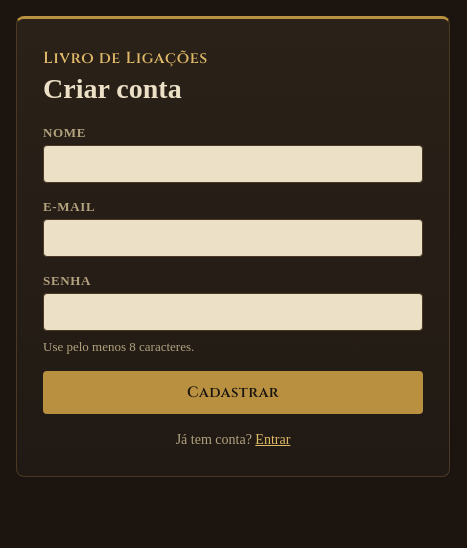
cadastro › exibe erro de e-mail duplicado e mantém nome e e-mail digitados
The width and height of the screenshot is (467, 548).
Step 1. Type "Jogador Novo" into the field labelled "Nome" → (233, 164), box [43,145,423,183]
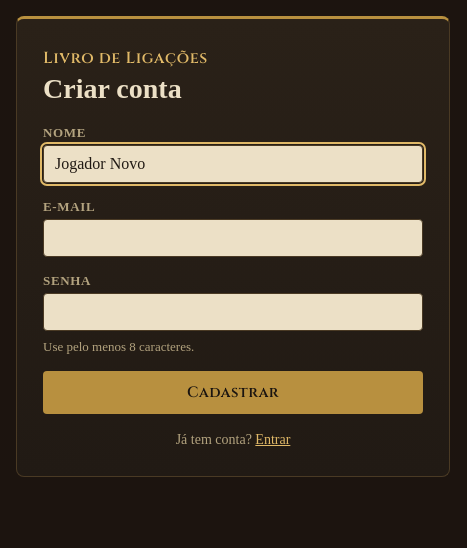
Step 2. Type "repetido@example.com" into the field labelled "E-mail" → (233, 238), box [43,219,423,257]
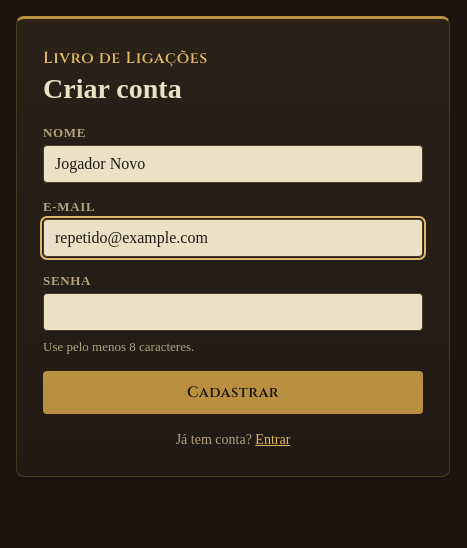
Step 3. Type "senha-secreta" into the password field labelled "Senha" → (233, 312), box [43,293,423,331]
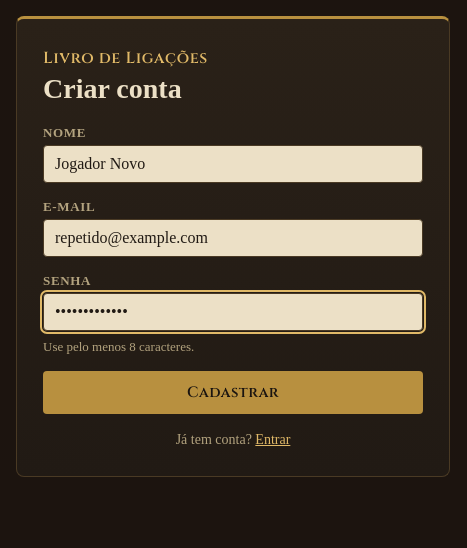
Step 4. Click the button "Cadastrar" → click(233, 392), box [43,371,423,414]
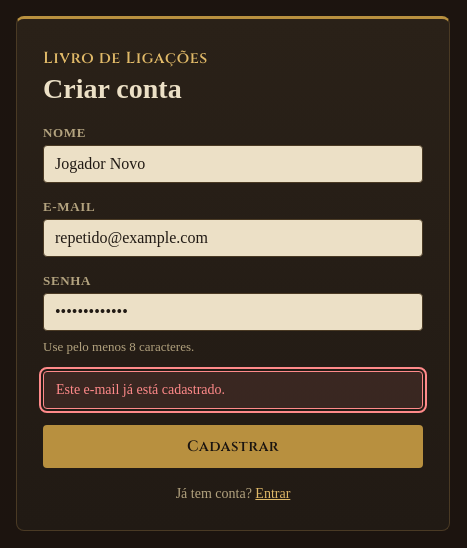
Now the message reads "Este e-mail já está cadastrado.", box [56,382,225,397]
